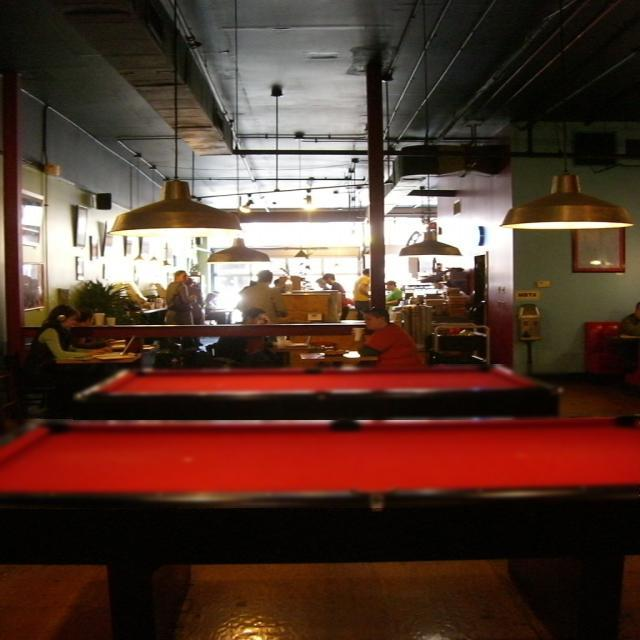Billiard table: (0, 419, 639, 508), (73, 364, 569, 420)
